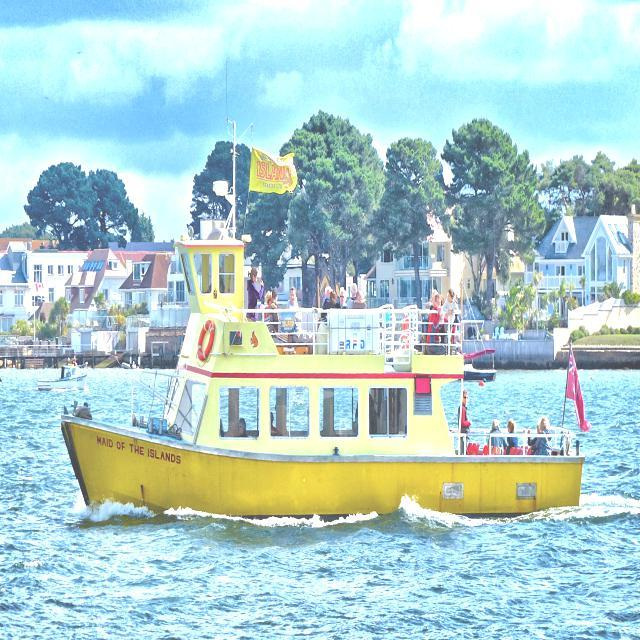ship: (56, 118, 594, 518), (450, 262, 500, 384), (34, 356, 92, 398)
